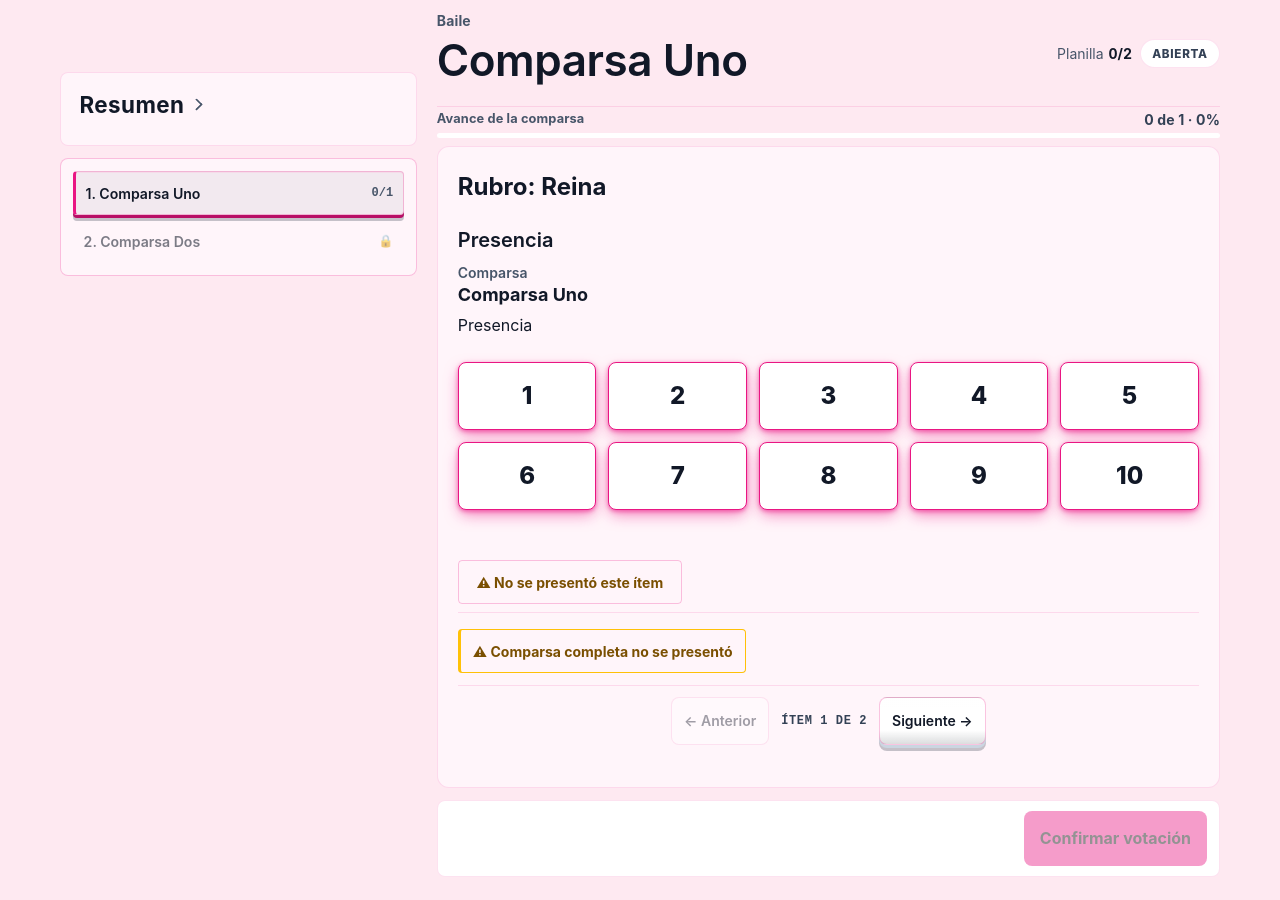
Scenario: JudgeBallotPage › no incluye el ítem actual ni futuros cuando no hay faltantes anteriores
This screenshot has width=1280, height=900.
Expected: the heading "Comparsa Uno" is shown, [437,37,748,83]
Expected: the button "Faltantes anteriores" is not shown
What coordinates should you click on to do the following:
click the button with aria-label "Ítem siguiente"
I would click on:
 (932, 720)
Its box is [879,696,986,744].
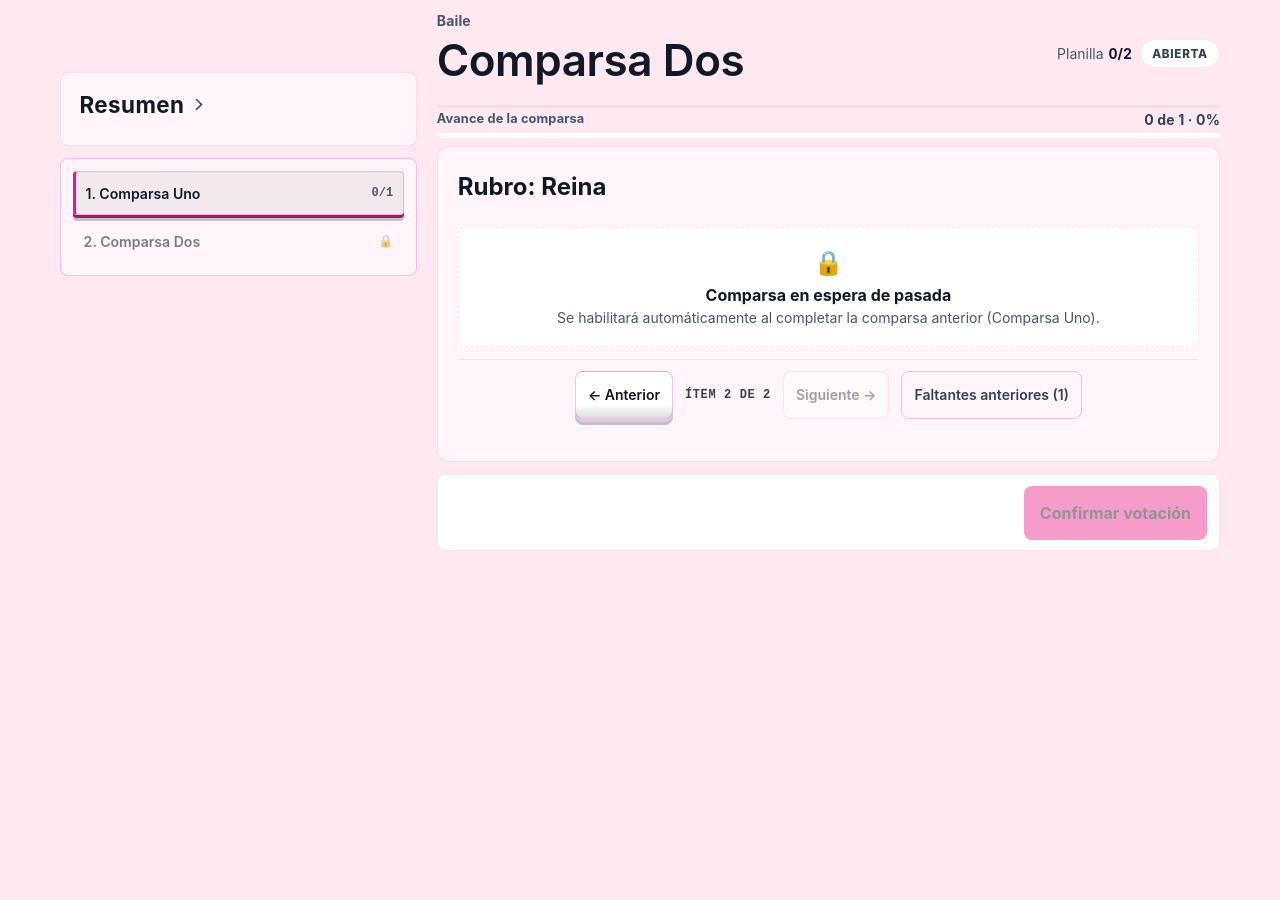
Expected: the button "Faltantes anteriores (1)" is shown
What coordinates should you click on to do the following:
click the button "Faltantes anteriores (1)"
I would click on:
 (992, 395)
Its box is [902,371,1082,419].
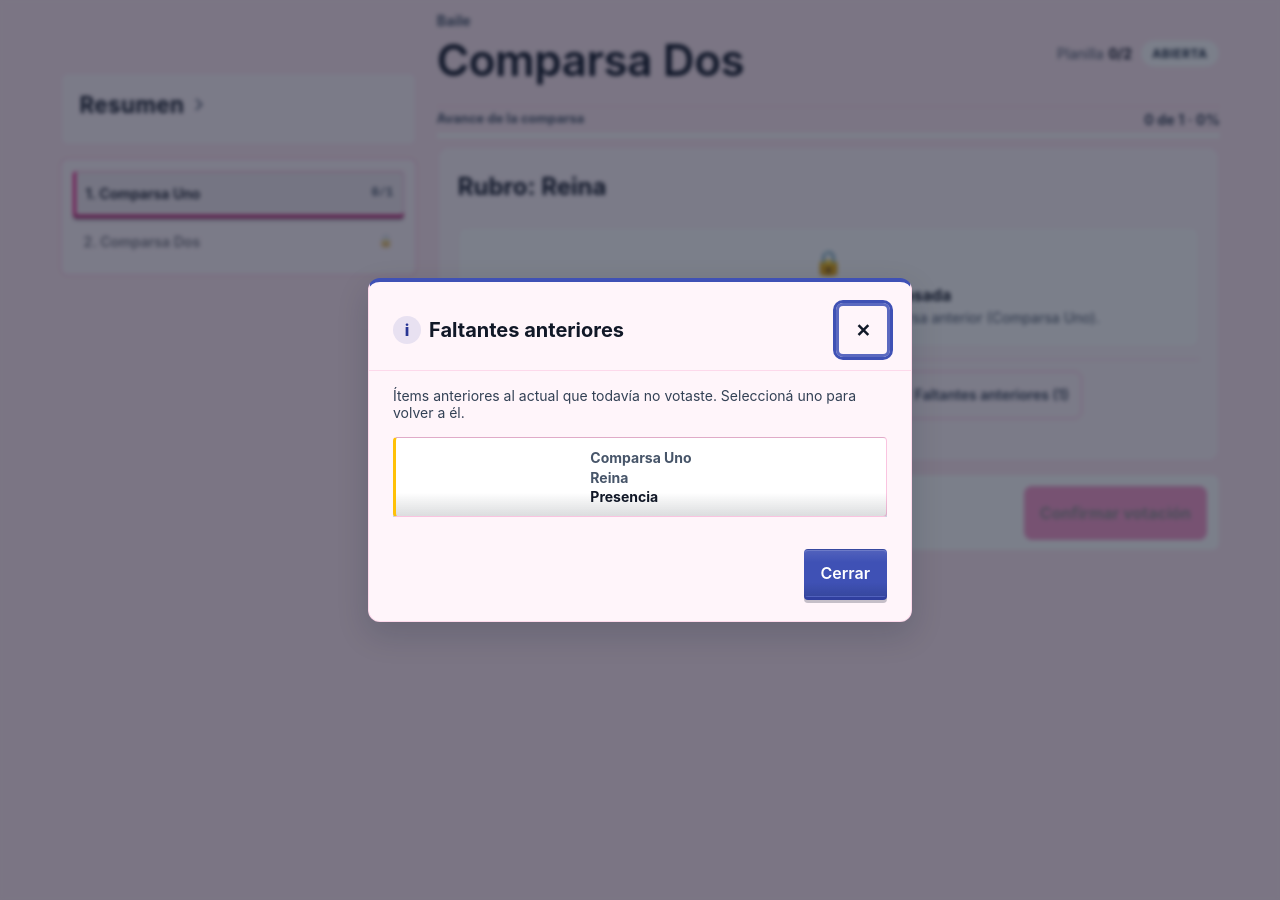
Expected: the text "Comparsa Uno" is shown, [590,449,692,466]
